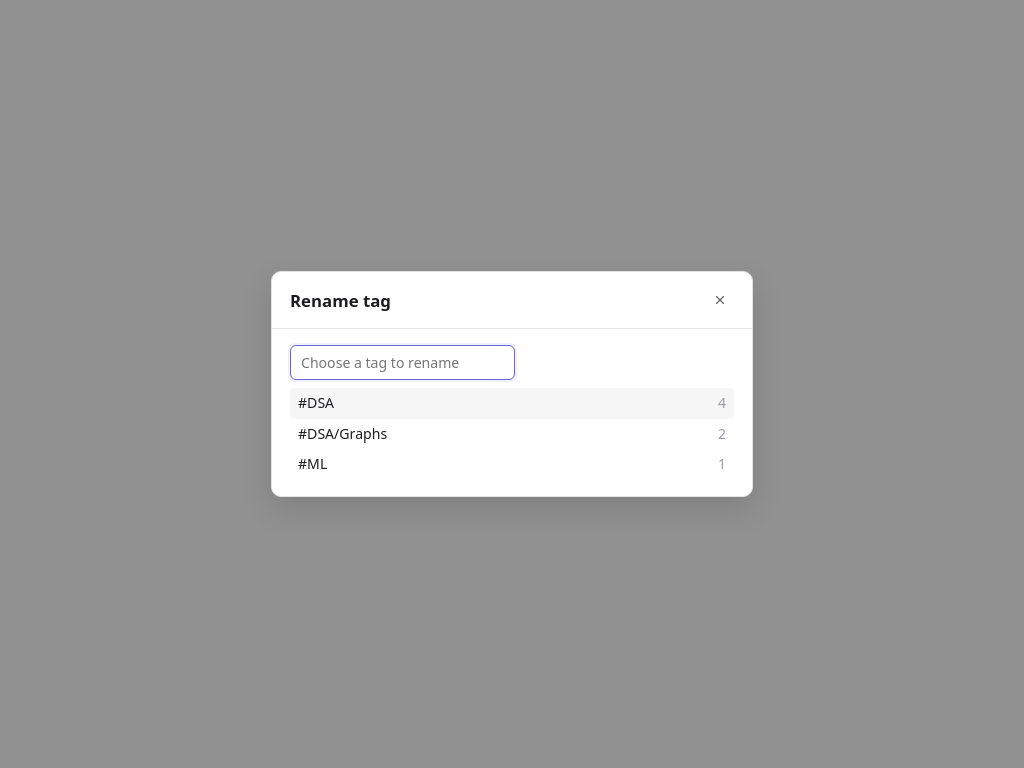
Test: RenameTagDialog › picks a tag first when none is given, keyboard only
Step 1. Type "gra" into the field labelled "tag" → (402, 363), box [290, 345, 515, 380]
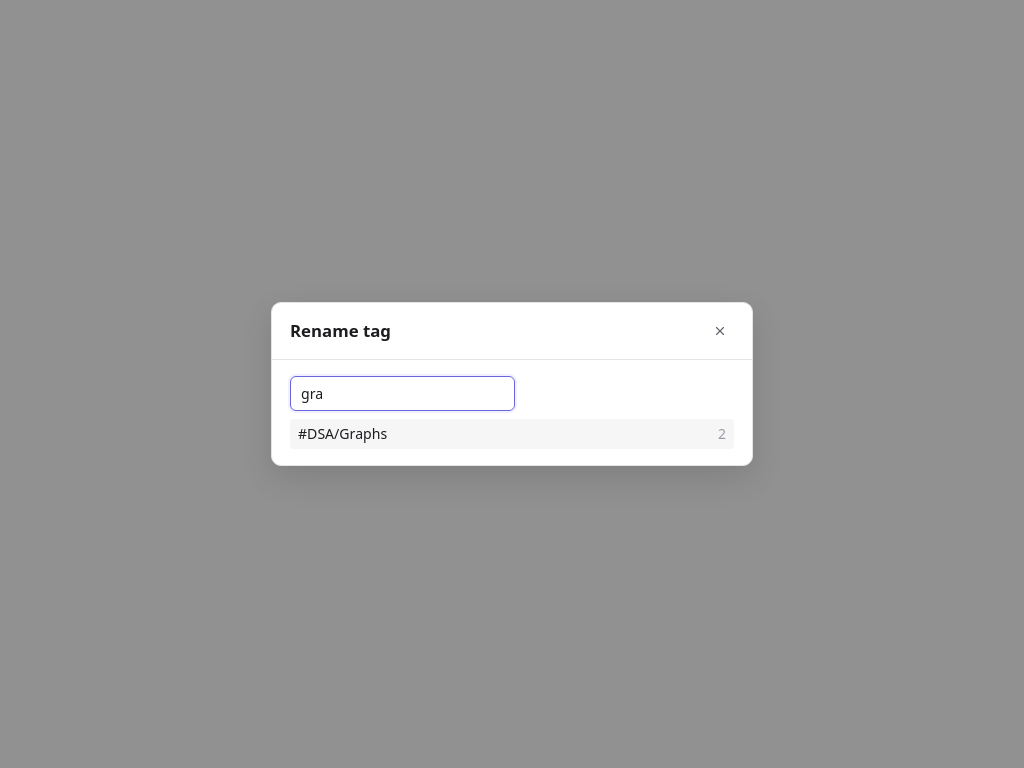
Expected: the number of options is 1, [290, 419, 734, 449]
Step 2. Press Enter in the field named "tag", box [290, 376, 515, 411]
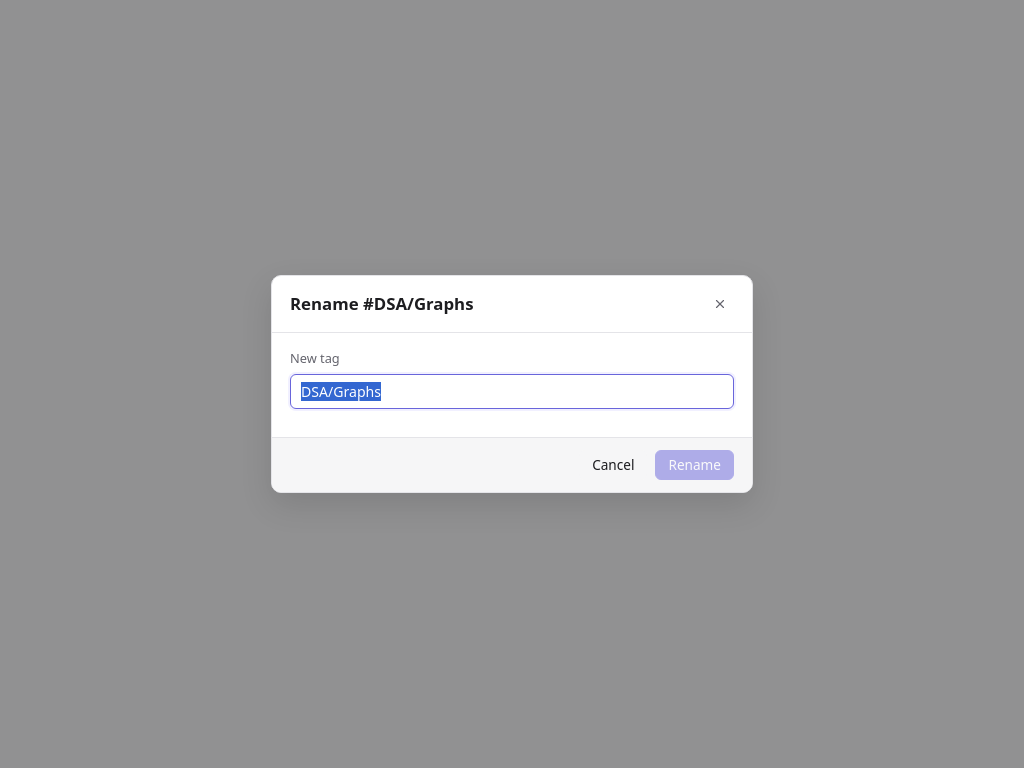
Expected: the field labelled "New tag" holds "DSA/Graphs", [290, 374, 734, 409]
